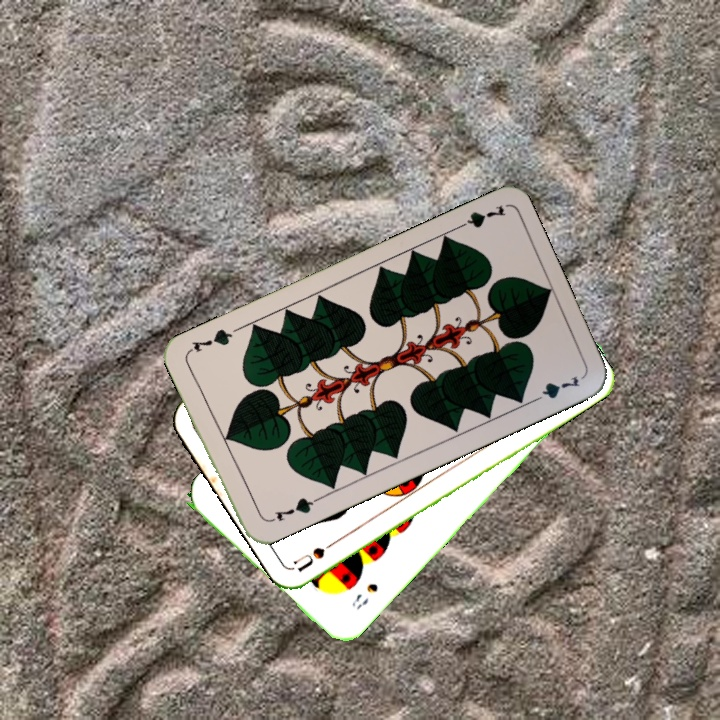G7: (449, 201, 508, 233), (264, 493, 320, 525)
S8: (347, 579, 381, 612)
SU: (290, 532, 345, 575)
